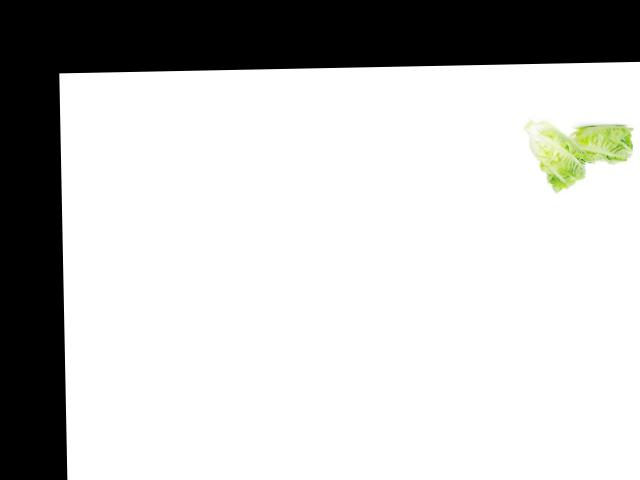lettuce: (522, 113, 593, 190)
